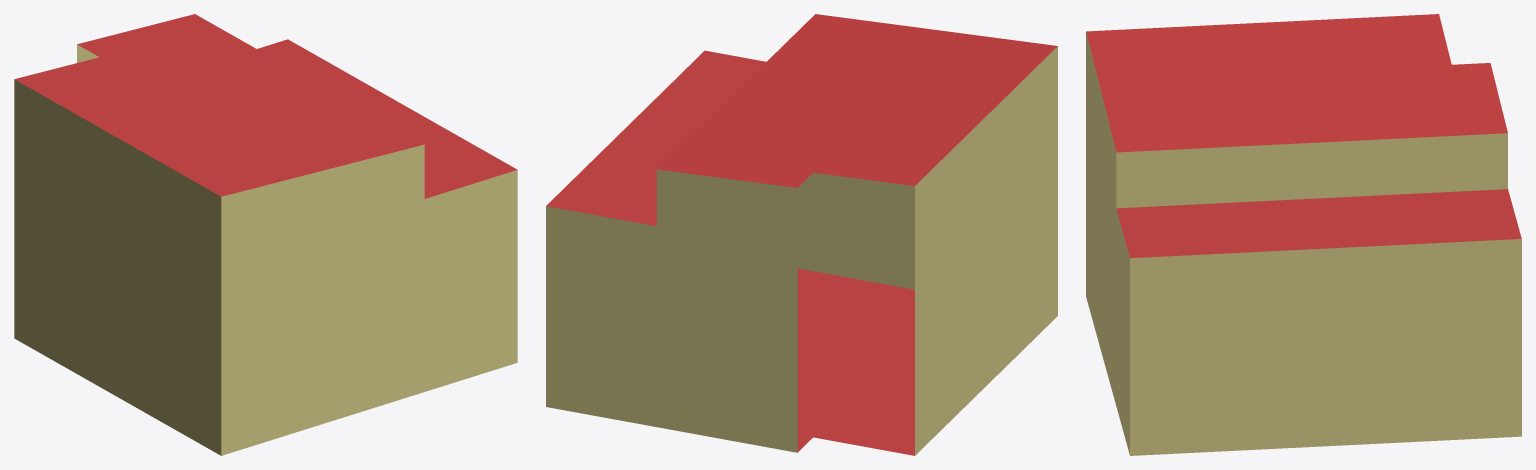
3 views of the same model, side by side, from view 1: azimuth 30°, elevation 25°; view 2: azimuth 150°, elevation 25°; view 3: azimuth 270°, elevation 25° (orthographic). The views are drawn at different scales.
Size of the model in its own units: 10.48 by 10.94 by 7.36.
